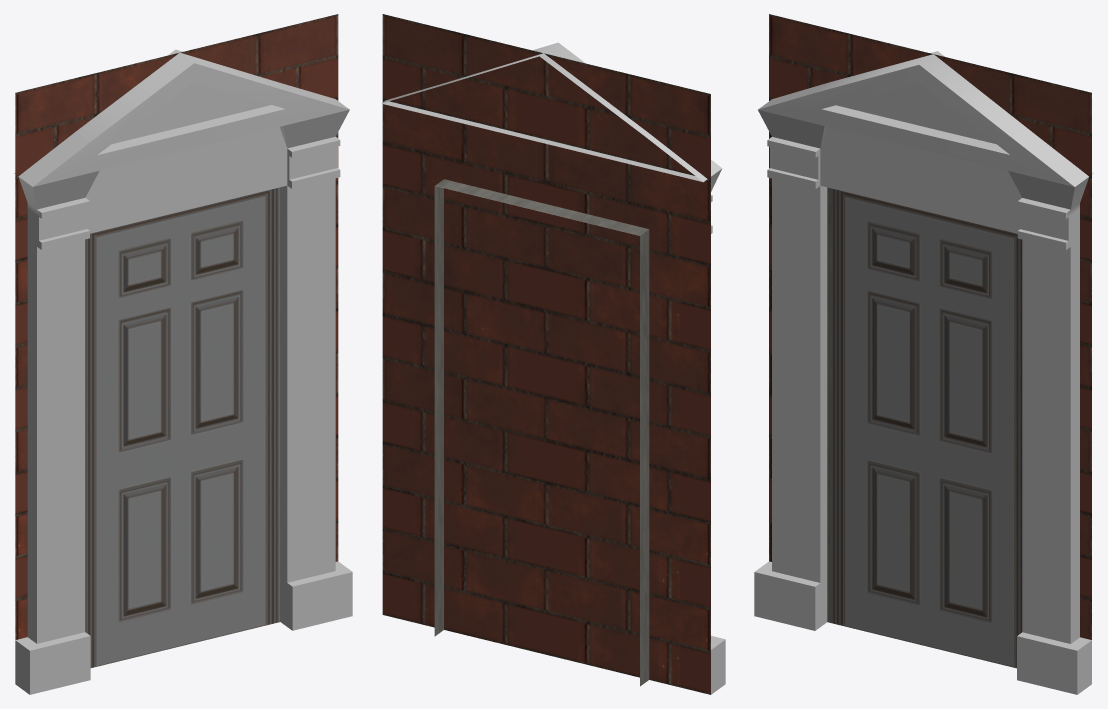
The model's file is BRICK_DOOR 1.fbx.
3 views of the same model, side by side, from view 1: azimuth 30°, elevation 25°; view 2: azimuth 150°, elevation 25°; view 3: azimuth 330°, elevation 25° (orthographic).
Visible parts, largest first — view 1: Brick_Door; view 2: Brick_Door; view 3: Brick_Door.
Boxes of the visible parts, bbox=[...] form: Brick_Door: bbox=[14, 14, 352, 694]; Brick_Door: bbox=[381, 14, 725, 694]; Brick_Door: bbox=[754, 14, 1093, 694].
Size of the model in its own units: 2 by 3.5 by 0.2554.
